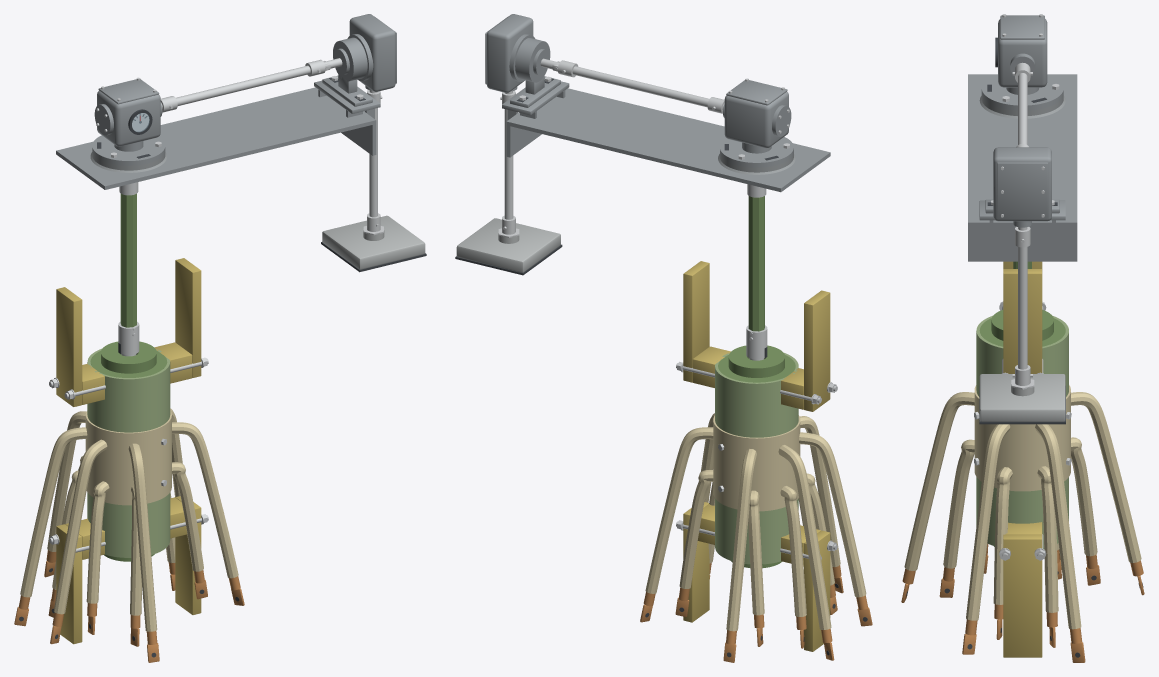
Rendered from wdg.glb.
The picture shows the model from 3 angles, left to right: view 1: azimuth 30°, elevation 25°; view 2: azimuth 150°, elevation 25°; view 3: azimuth 270°, elevation 25°; orthographic projection. The views are drawn at different scales.
Visible parts, largest first — view 1: octc-lead, octc-drum, octc-tankcover, octc-support, geneva, octc-worm, mdu, octc-shaft, octc-hshaft, octc-vshaft, octc-weldflange; view 2: octc-lead, octc-drum, octc-tankcover, octc-support, geneva, octc-worm, mdu, octc-shaft, octc-hshaft, octc-vshaft, octc-weldflange; view 3: octc-lead, octc-tankcover, octc-drum, octc-support, geneva, octc-worm, mdu, octc-vshaft, octc-hshaft, octc-weldflange.
Part boxes in pixels (bbox=[...]): octc-lead: bbox=[14, 408, 244, 662]; octc-drum: bbox=[85, 341, 171, 561]; octc-tankcover: bbox=[56, 80, 380, 189]; octc-support: bbox=[49, 258, 208, 644]; geneva: bbox=[92, 77, 165, 165]; octc-worm: bbox=[322, 14, 396, 106]; mdu: bbox=[321, 215, 426, 272]; octc-shaft: bbox=[118, 182, 139, 355]; octc-hshaft: bbox=[160, 59, 325, 112]; octc-vshaft: bbox=[367, 90, 382, 231]; octc-weldflange: bbox=[90, 152, 167, 172]; octc-lead: bbox=[640, 413, 872, 662]; octc-drum: bbox=[713, 345, 800, 568]; octc-tankcover: bbox=[502, 81, 830, 192]; octc-support: bbox=[676, 261, 837, 651]; geneva: bbox=[720, 78, 793, 167]; octc-worm: bbox=[485, 14, 560, 107]; mdu: bbox=[455, 218, 562, 275]; octc-shaft: bbox=[746, 184, 767, 359]; octc-hshaft: bbox=[557, 60, 724, 113]; octc-vshaft: bbox=[500, 91, 515, 234]; octc-weldflange: bbox=[718, 153, 795, 174]; octc-lead: bbox=[901, 392, 1144, 662]; octc-tankcover: bbox=[968, 74, 1077, 261]; octc-drum: bbox=[974, 309, 1070, 548]; octc-support: bbox=[999, 261, 1046, 657]; geneva: bbox=[981, 14, 1063, 110]; octc-worm: bbox=[985, 147, 1059, 230]; mdu: bbox=[979, 374, 1065, 424]; octc-vshaft: bbox=[1012, 226, 1032, 385]; octc-hshaft: bbox=[1012, 62, 1032, 147]; octc-weldflange: bbox=[979, 95, 1065, 118].
Bounding box in the file's own units: 1.24 × 1.71 × 0.6221.
